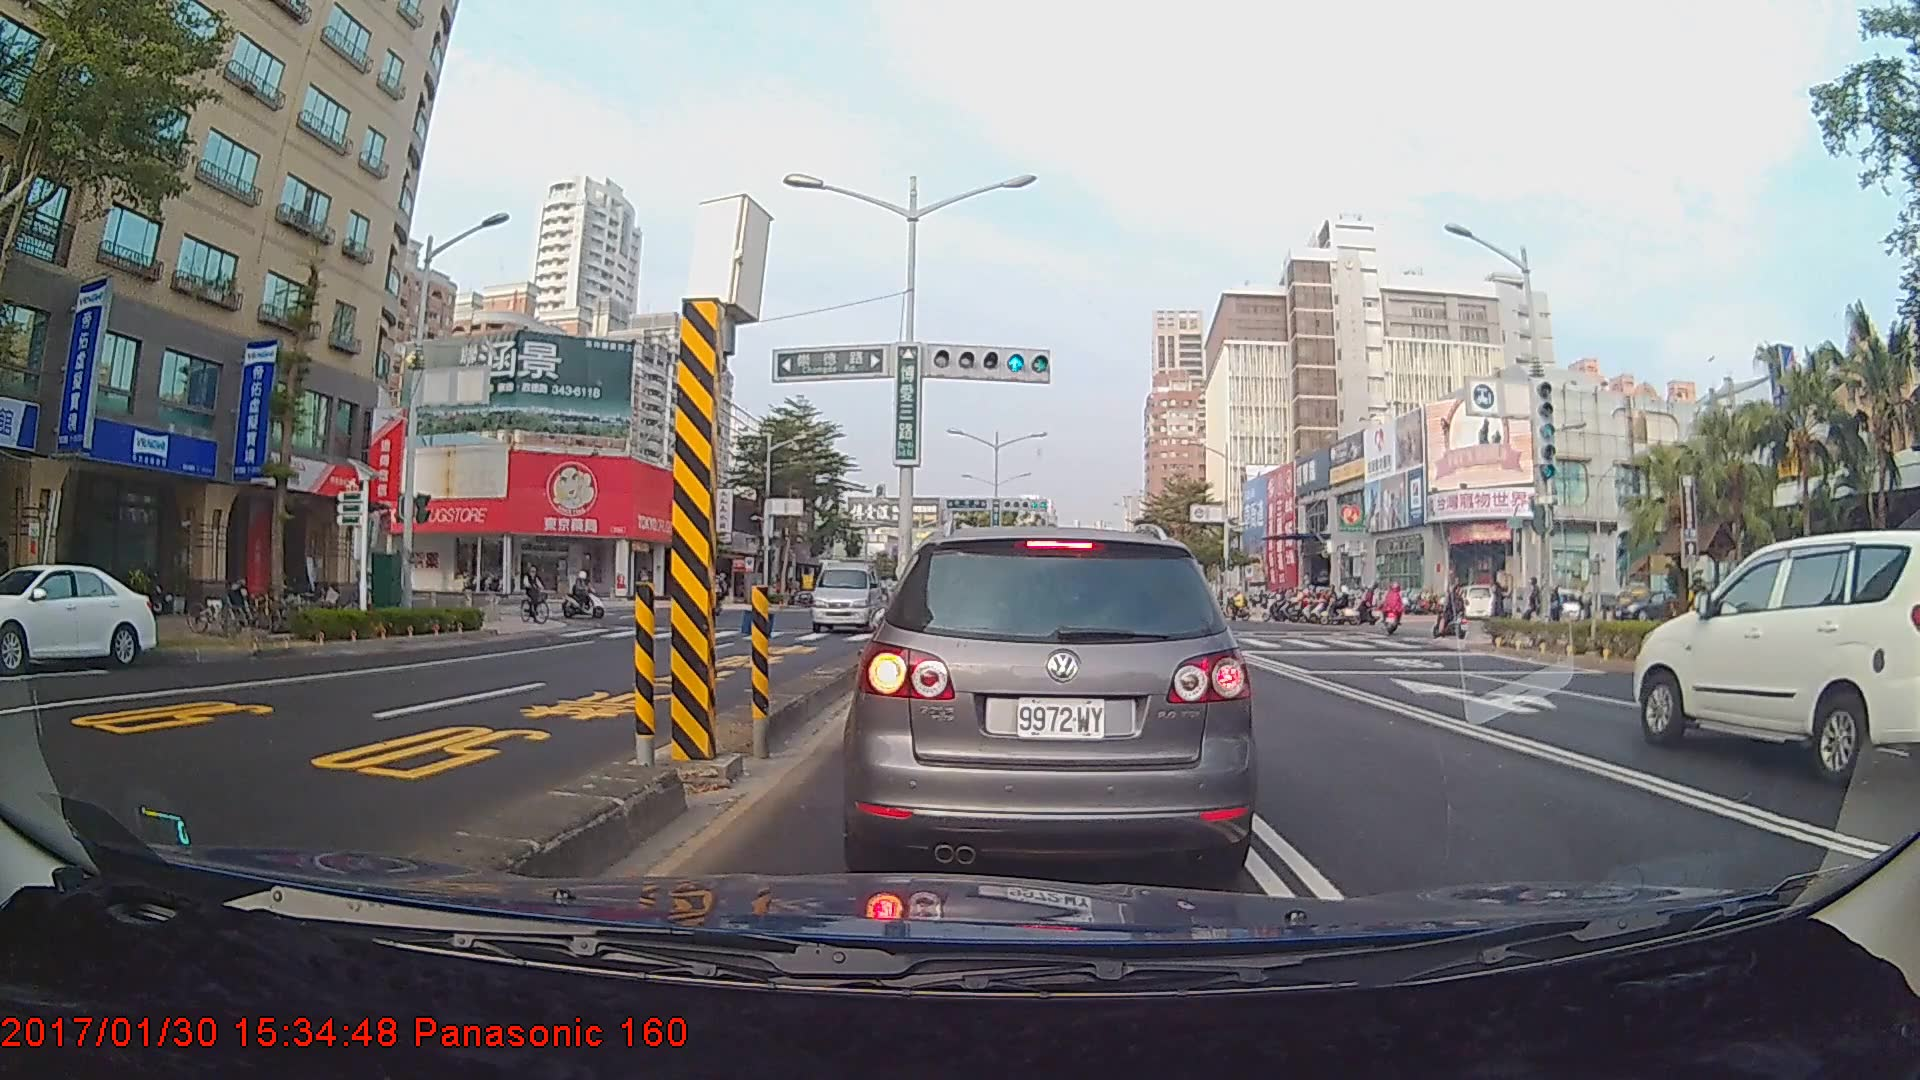pedestrian: (1491, 579, 1513, 637)
rider: (563, 568, 615, 625), (518, 559, 558, 629), (1436, 582, 1473, 646), (1384, 580, 1410, 640)
vehicle: (854, 520, 1250, 882), (1629, 527, 1920, 786), (0, 561, 159, 671), (809, 550, 883, 634)
